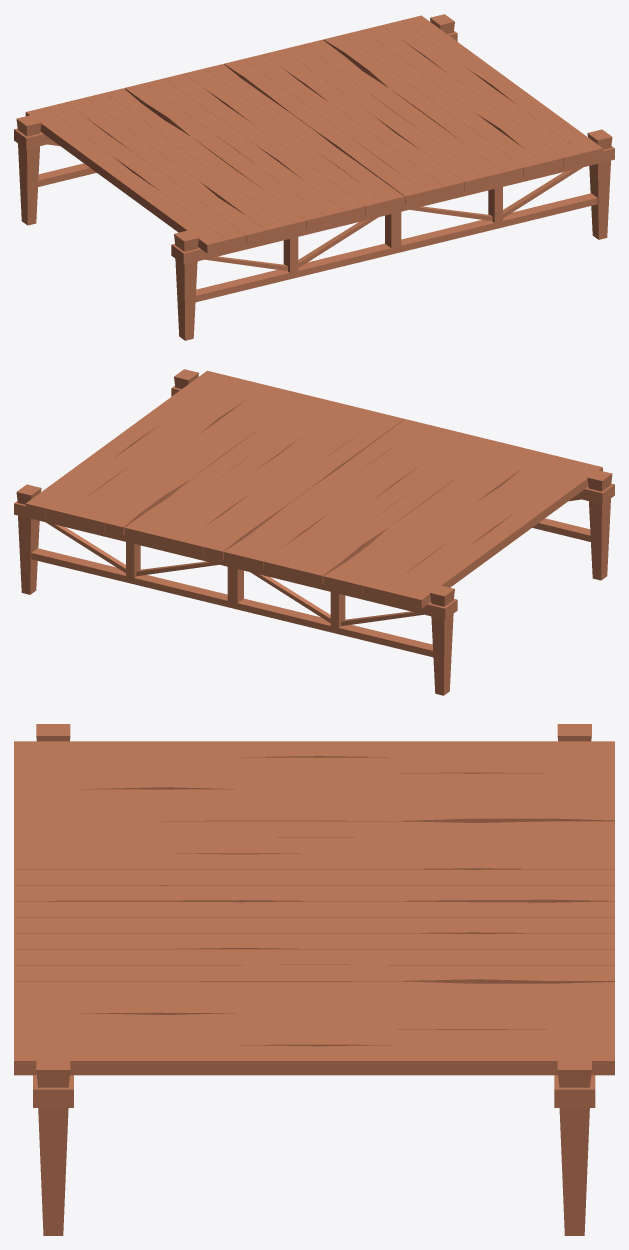
The model's file is woodenplatform.fbx.
The picture shows the model from 3 angles, top to bottom: view 1: azimuth 30°, elevation 25°; view 2: azimuth 150°, elevation 25°; view 3: azimuth 270°, elevation 25°; orthographic projection. The views are drawn at different scales.
Parts seen in each view (by area): view 1: Cube.042; view 2: Cube.042; view 3: Cube.042.
Part boxes in pixels (box(x1,y1,x2,y2)): Cube.042: box(14, 14, 614, 340); Cube.042: box(14, 369, 614, 695); Cube.042: box(14, 724, 614, 1235).
Bounding box in the file's own units: 439 × 99.02 × 320.
Materials: 1 (1 with a texture image).
